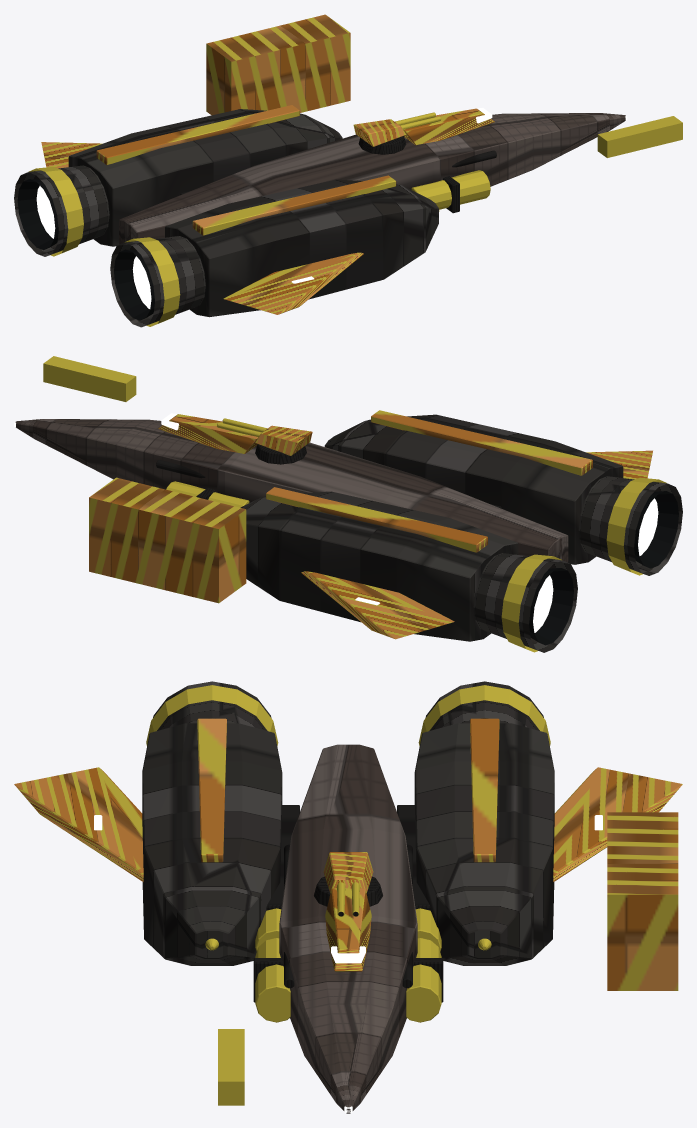
Rendered from corvette.glb.
3 renders of one model, top to bottom at view 1: azimuth 30°, elevation 25°; view 2: azimuth 150°, elevation 25°; view 3: azimuth 270°, elevation 25°, orthographic. The views are drawn at different scales.
Parts seen in each view (by area): view 1: corvette; view 2: corvette; view 3: corvette.
Boxes of the visible parts, bbox=[...] form: corvette: bbox=[14, 14, 682, 327]; corvette: bbox=[14, 356, 682, 652]; corvette: bbox=[14, 681, 682, 1113].
Size of the model in its own units: 20 by 3.59 by 14.82.
Materials: 1 (1 with a texture image).
